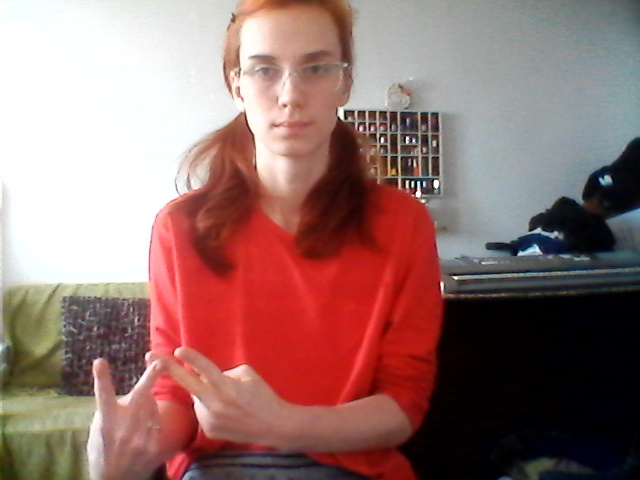w: (69, 338, 279, 461)
